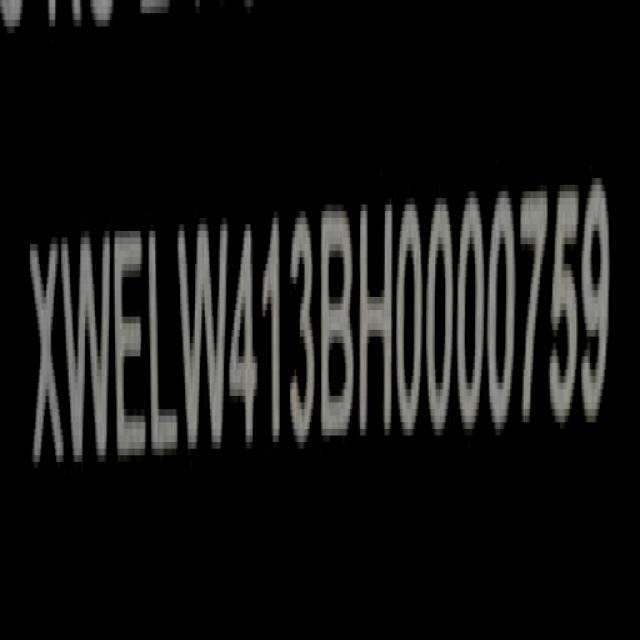0: (486, 189, 516, 438), (398, 196, 427, 442), (428, 194, 456, 439), (456, 191, 483, 436)
1: (261, 212, 282, 458)
3: (290, 210, 318, 459)
4: (228, 217, 256, 462)
5: (550, 178, 578, 431)
7: (519, 182, 548, 435)
9: (582, 179, 612, 427)
B: (322, 202, 354, 450)
E: (116, 222, 148, 472)
H: (360, 198, 395, 445)
L: (148, 224, 178, 470)
W: (64, 225, 114, 476), (176, 222, 228, 452)
X: (30, 235, 64, 487)
